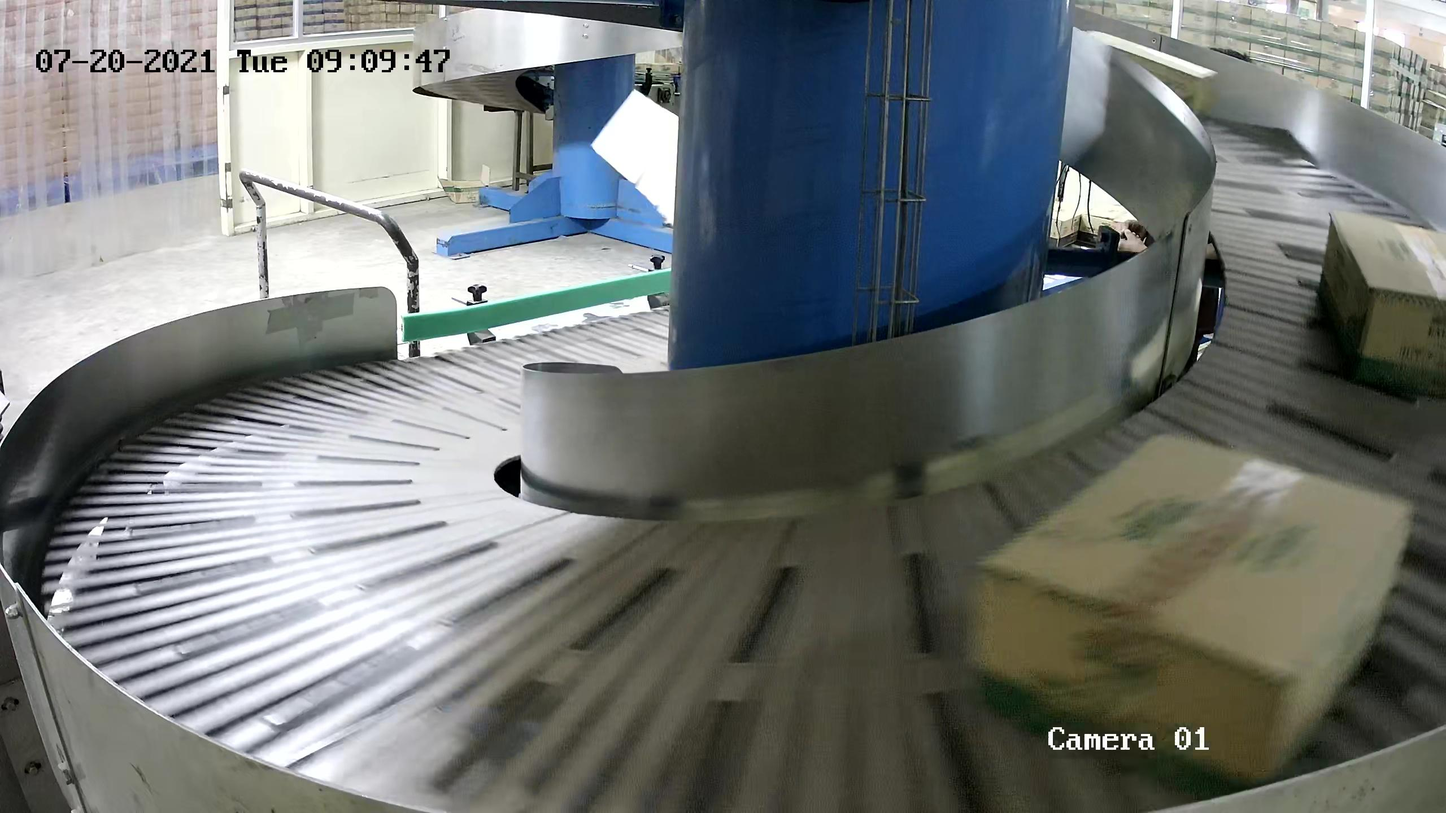Box: (967, 429, 1418, 801), (1318, 210, 1446, 399), (1081, 30, 1219, 123)
